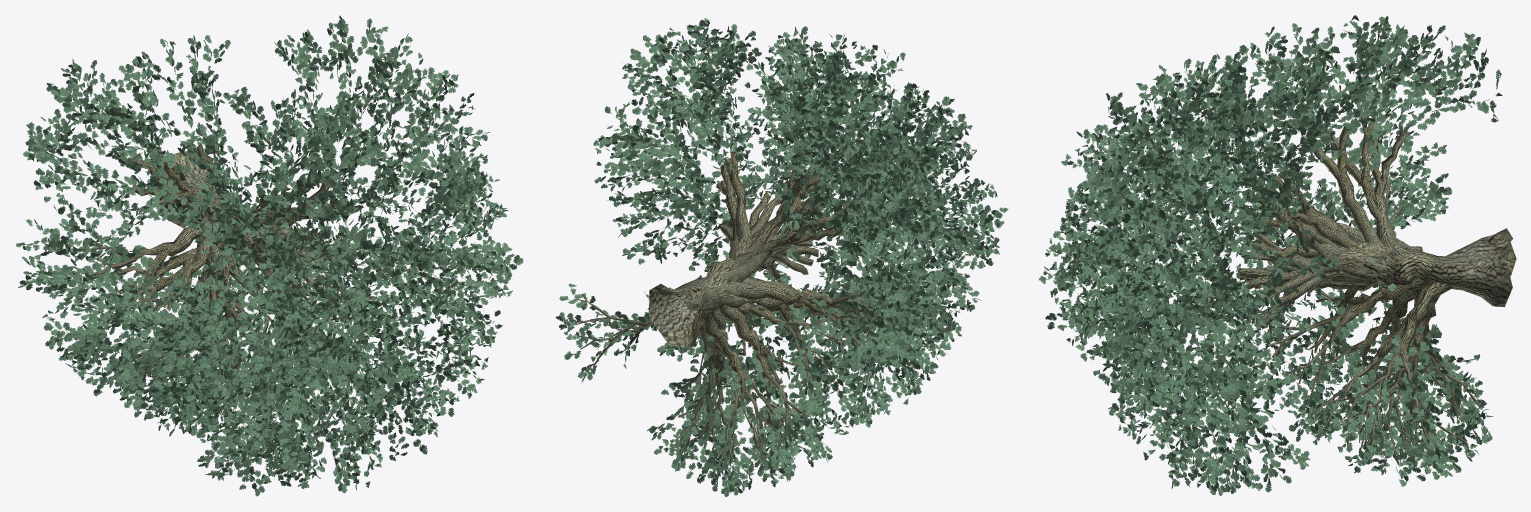
The model's file is tree3.obj.
3 renders of one model, left to right at view 1: azimuth 30°, elevation 25°; view 2: azimuth 150°, elevation 25°; view 3: azimuth 270°, elevation 25°, orthographic. The views are drawn at different scales.
Visible parts, largest first — view 1: feuilles_chêne_Mesh.001, tronc_chêne_Mesh; view 2: feuilles_chêne_Mesh.001, tronc_chêne_Mesh; view 3: feuilles_chêne_Mesh.001, tronc_chêne_Mesh.
Part boxes in pixels (x1=…): feuilles_chêne_Mesh.001: x1=16, y1=15, x2=523, y2=496; tronc_chêne_Mesh: x1=92, y1=144, x2=379, y2=394; feuilles_chêne_Mesh.001: x1=555, y1=18, x2=1008, y2=496; tronc_chêne_Mesh: x1=574, y1=151, x2=875, y2=461; feuilles_chêne_Mesh.001: x1=1039, y1=15, x2=1502, y2=495; tronc_chêne_Mesh: x1=1239, y1=116, x2=1516, y2=460.
Size of the model in its own units: 23.59 by 23.39 by 23.28.
2 materials, 2 textured.
